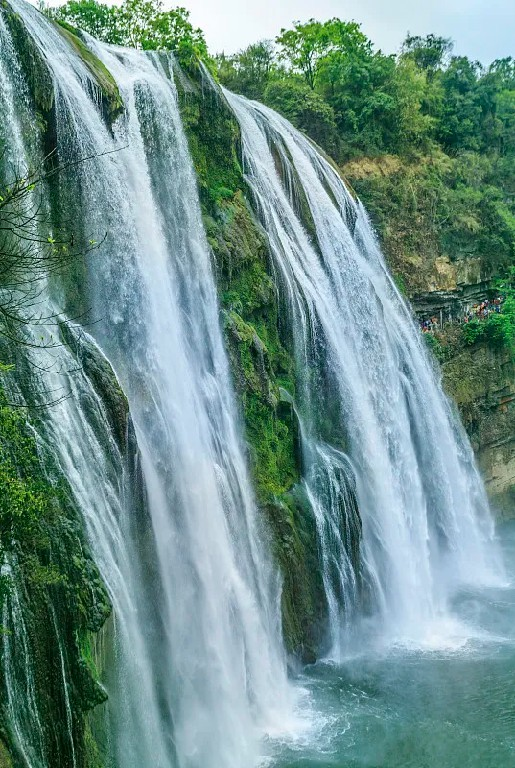Huangguoshu: (1, 4, 501, 768)
